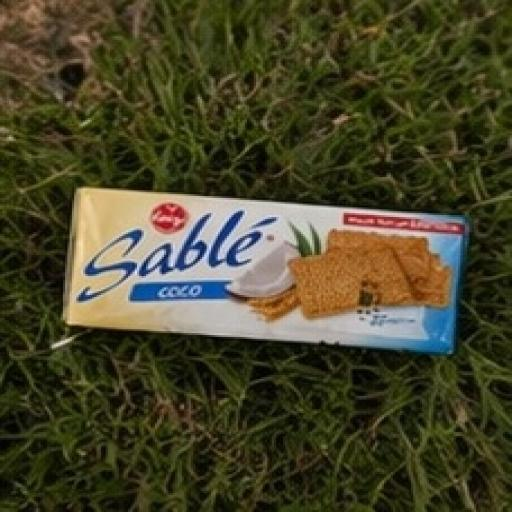sabl: (37, 135, 486, 408)
